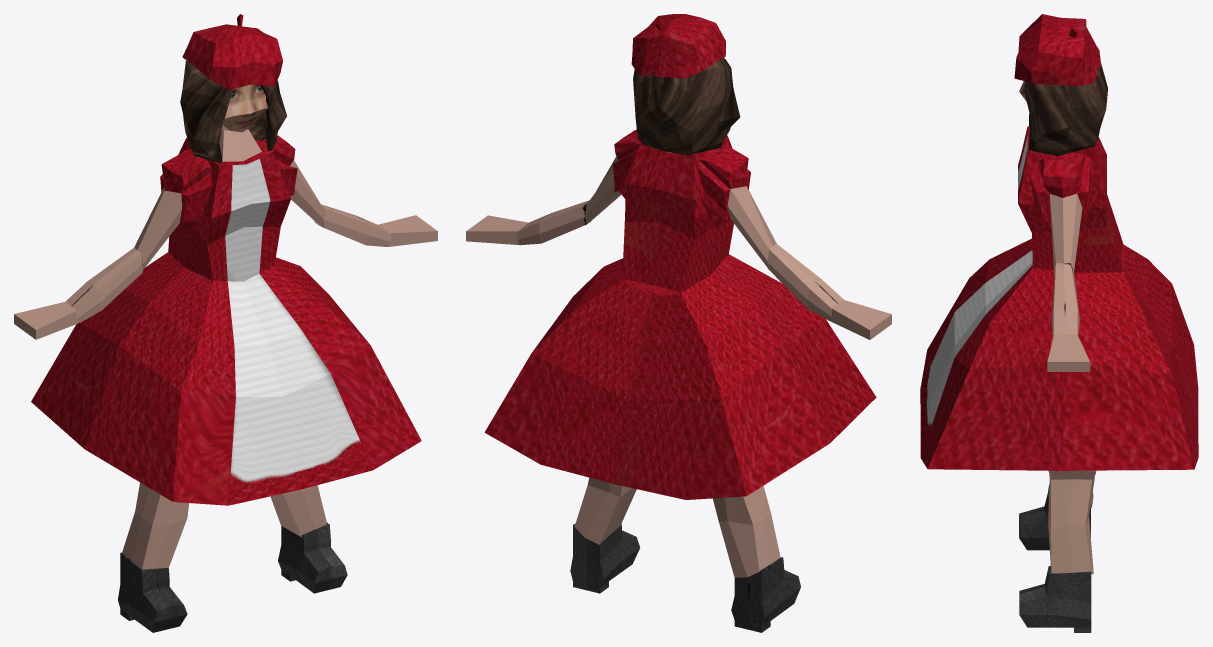
File: LittleRedCap.fbx
3 views of the same model, side by side, from view 1: azimuth 30°, elevation 25°; view 2: azimuth 150°, elevation 25°; view 3: azimuth 270°, elevation 25° (orthographic). The views are drawn at different scales.
Parts seen in each view (by area): view 1: skirt, Torso, Hat, Hair, UpperArmRight, LowerLegRight, FeetRight, FeetLeft, LowerArmRight, LowerLegLeft, UpperArmLeft, LowerArmLeft (+4 smaller); view 2: skirt, Torso, Hair, Hat, UpperArmRight, LowerLegRight, FeetRight, FeetLeft, LowerLegLeft, LowerArmRight, UpperArmLeft, LowerArmLeft (+2 smaller); view 3: skirt, Torso, Hair, Hat, UpperArmLeft, LowerLegLeft, FeetLeft, LowerArmLeft, HandLeft, FeetRight, UpperLegLeft.
Boxes of the visible parts, box(x1,y1,x2,y2) form: skirt: box(31, 252, 421, 505); Torso: box(168, 138, 290, 281); Hat: box(182, 14, 282, 89); Hair: box(180, 60, 286, 163); UpperArmRight: box(134, 148, 212, 270); LowerLegRight: box(122, 482, 189, 569); FeetRight: box(118, 552, 187, 632); FeetLeft: box(278, 522, 347, 593); LowerArmRight: box(66, 248, 142, 322); LowerLegLeft: box(270, 485, 326, 537); UpperArmLeft: box(259, 135, 323, 227); LowerArmLeft: box(315, 204, 390, 246); skirt: box(484, 254, 876, 499); Torso: box(622, 135, 733, 293); Hair: box(633, 58, 740, 155); Hat: box(631, 14, 725, 78); UpperArmRight: box(698, 145, 776, 267); LowerLegRight: box(712, 486, 780, 577); FeetRight: box(731, 557, 800, 632); FeetLeft: box(570, 523, 640, 593); LowerLegLeft: box(574, 477, 636, 544); LowerArmRight: box(767, 244, 843, 320); UpperArmLeft: box(585, 130, 640, 223); LowerArmLeft: box(516, 200, 590, 245); skirt: box(920, 238, 1198, 470); Torso: box(1018, 126, 1123, 272); Hair: box(1024, 63, 1107, 155); Hat: box(1014, 14, 1101, 86); UpperArmLeft: box(1029, 152, 1091, 275); LowerLegLeft: box(1048, 476, 1094, 574); FeetLeft: box(1019, 566, 1091, 632); LowerArmLeft: box(1051, 263, 1079, 339); HandLeft: box(1047, 334, 1090, 371); FeetRight: box(1019, 484, 1090, 550); UpperLegLeft: box(1048, 470, 1096, 479).
Size of the model in its own units: 262 by 362 by 160.
1 material, 1 textured.
